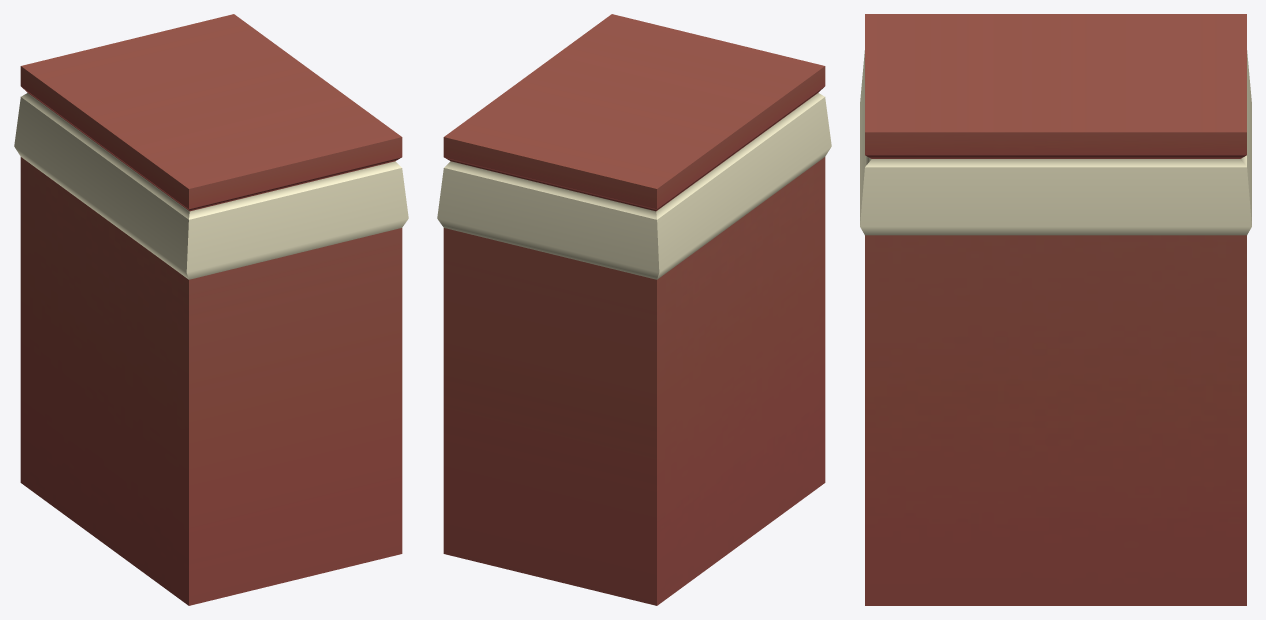
Rendered from SM_Basket_Bathroom_1_02.fbx.
3 renders of one model, left to right at view 1: azimuth 30°, elevation 25°; view 2: azimuth 150°, elevation 25°; view 3: azimuth 270°, elevation 25°, orthographic. The views are drawn at different scales.
Parts seen in each view (by area): view 1: SM_Basket_Bathroom_1_02; view 2: SM_Basket_Bathroom_1_02; view 3: SM_Basket_Bathroom_1_02.
Part boxes in pixels (left/top/right/bottom): SM_Basket_Bathroom_1_02: left=14, top=14, right=408, bottom=605; SM_Basket_Bathroom_1_02: left=437, top=14, right=831, bottom=605; SM_Basket_Bathroom_1_02: left=860, top=14, right=1251, bottom=605.
Bounding box in the file's own units: 38.42 × 68.9 × 51.67.
